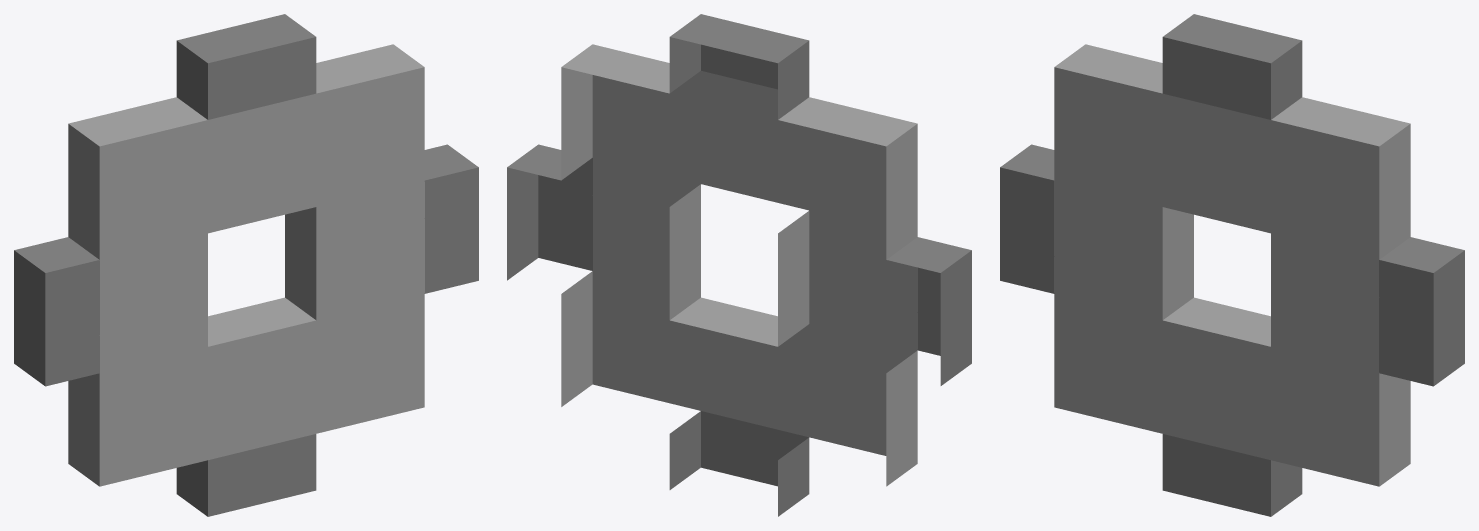
File: settings.fbx
The picture shows the model from 3 angles, left to right: view 1: azimuth 30°, elevation 25°; view 2: azimuth 150°, elevation 25°; view 3: azimuth 330°, elevation 25°; orthographic projection.
Parts seen in each view (by area): view 1: Matrix_8; view 2: Matrix_8; view 3: Matrix_8.
Boxes of the visible parts, box(x1,y1,x2,y2) form: Matrix_8: box(14, 14, 478, 516); Matrix_8: box(507, 14, 971, 516); Matrix_8: box(1000, 14, 1464, 516).
Bounding box in the file's own units: 8 × 8 × 1.
